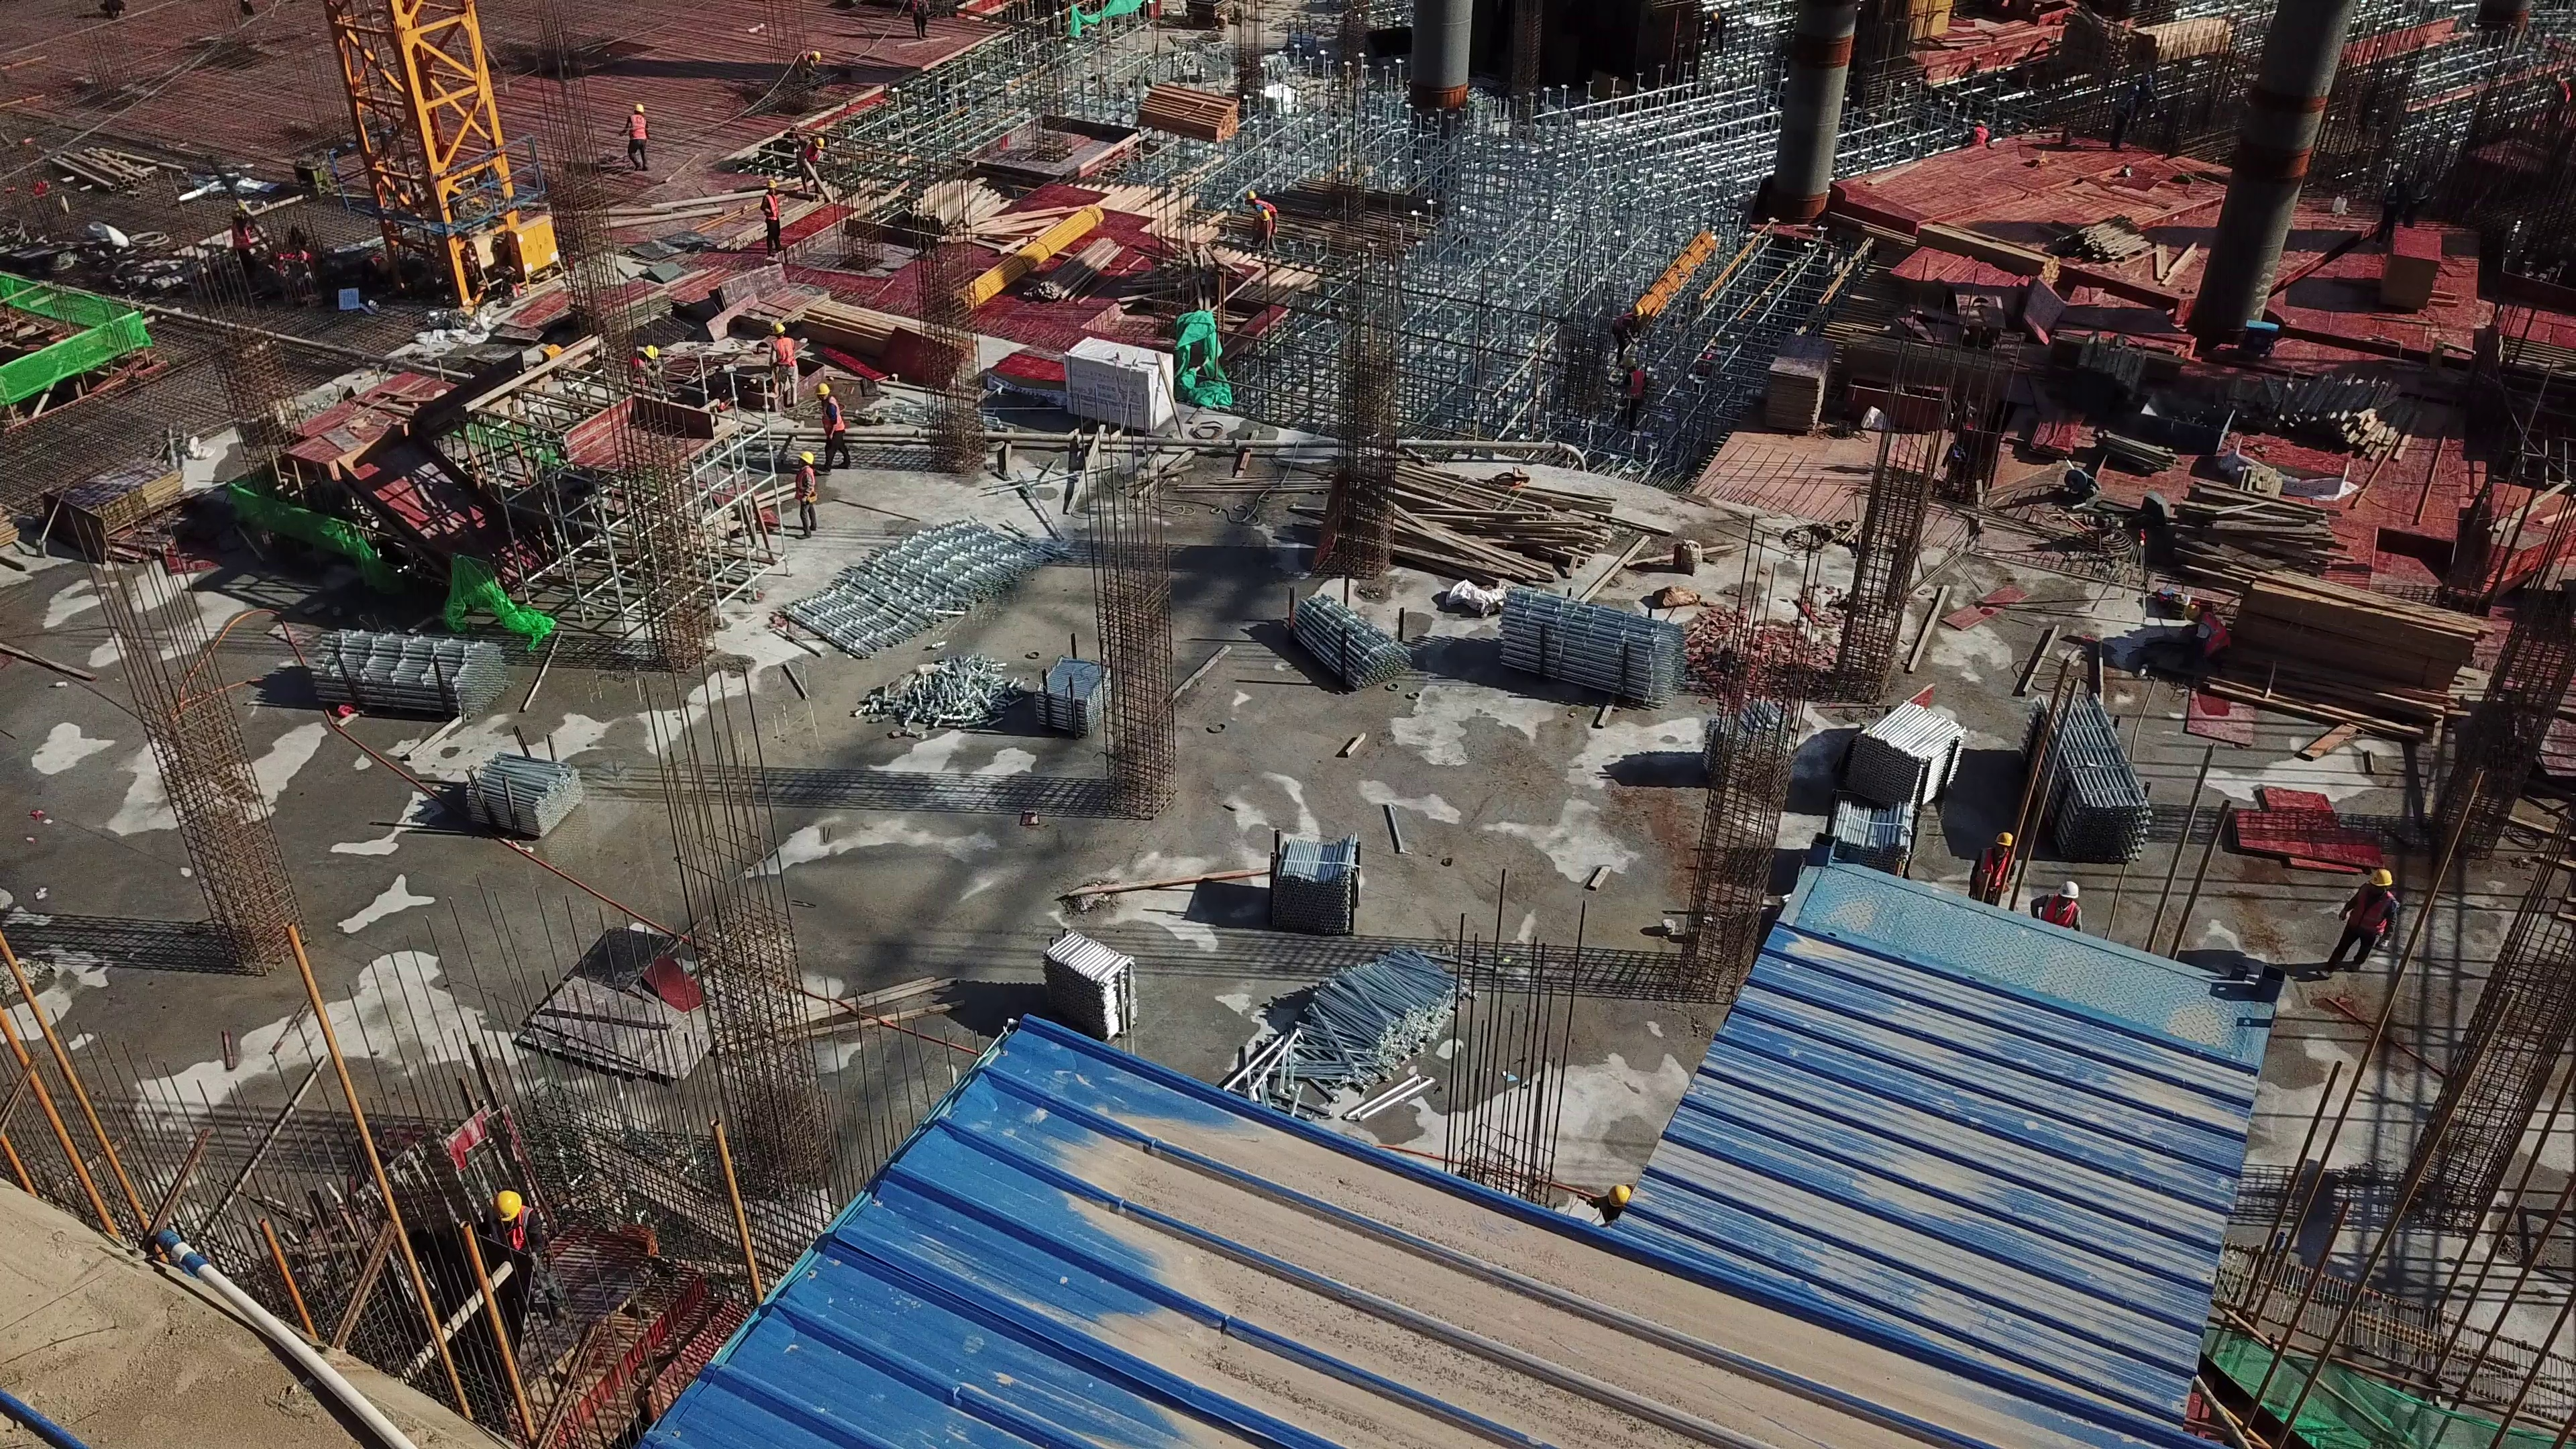helmet: (488, 1185, 524, 1228), (1603, 1175, 1629, 1216), (2367, 863, 2393, 897), (2055, 880, 2084, 906), (2190, 593, 2226, 614), (1994, 832, 2010, 856), (768, 319, 788, 339), (814, 378, 833, 394), (641, 344, 661, 362), (807, 137, 826, 152), (1625, 358, 1642, 373), (767, 176, 782, 197), (805, 49, 822, 64), (1634, 303, 1648, 321), (797, 453, 814, 462), (630, 102, 645, 111)
person: (2343, 844, 2401, 978), (477, 1185, 541, 1283), (2175, 589, 2229, 692), (810, 373, 861, 464), (1228, 191, 1286, 264), (746, 170, 790, 264), (762, 319, 805, 401), (2042, 874, 2096, 938), (1623, 358, 1658, 440), (796, 135, 831, 215), (788, 450, 816, 535), (1974, 833, 2010, 900), (623, 101, 656, 164), (1601, 304, 1646, 347), (792, 51, 822, 92)
vest: (2343, 888, 2393, 949), (2037, 895, 2084, 932), (2197, 610, 2231, 662), (492, 1232, 535, 1262), (1621, 377, 1655, 413), (1981, 854, 2008, 897), (817, 400, 844, 441), (755, 193, 785, 225), (626, 111, 651, 146), (768, 338, 792, 374), (799, 147, 824, 169), (1605, 319, 1631, 337), (795, 52, 809, 83), (799, 469, 811, 502)
